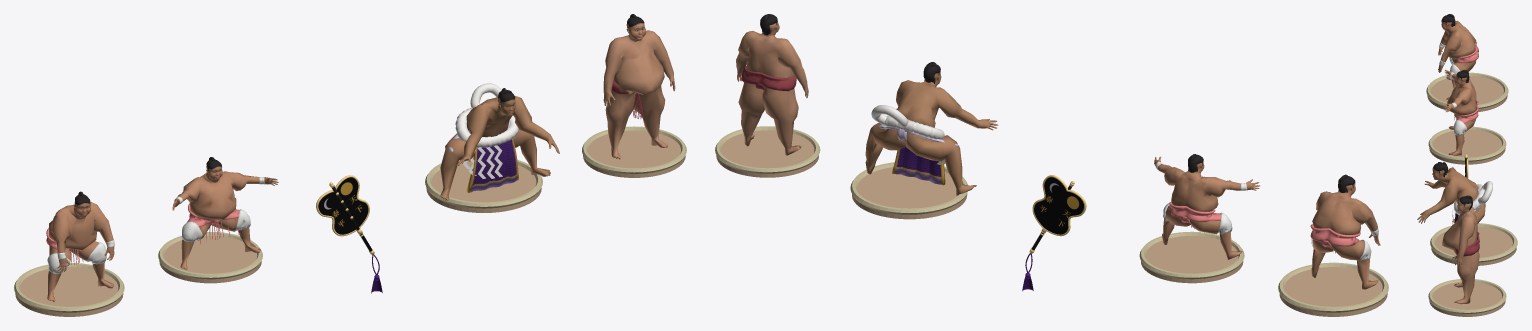
The model's file is sumo_rikishi.glb.
The picture shows the model from 3 angles, left to right: view 1: azimuth 30°, elevation 25°; view 2: azimuth 150°, elevation 25°; view 3: azimuth 270°, elevation 25°; orthographic projection. The views are drawn at different scales.
Visible parts, largest first — view 1: rikishi_yokozuna, rikishi_atamifuji, rikishi_shiko, rikishi_dohyoiri, rikishi_gunbai; view 2: rikishi_yokozuna, rikishi_atamifuji, rikishi_shiko, rikishi_dohyoiri, rikishi_gunbai; view 3: rikishi_atamifuji, rikishi_yokozuna, rikishi_dohyoiri, rikishi_shiko, rikishi_gunbai.
Boxes of the visible parts, x1,y1,x2,y2 form: rikishi_yokozuna: (425,83,559,212); rikishi_atamifuji: (582,14,686,177); rikishi_shiko: (14,191,124,316); rikishi_dohyoiri: (158,157,278,283); rikishi_gunbai: (316,175,382,293); rikishi_yokozuna: (850,62,998,219); rikishi_atamifuji: (715,14,820,177); rikishi_shiko: (1278,174,1388,316); rikishi_dohyoiri: (1139,154,1260,283); rikishi_gunbai: (1022,175,1086,291); rikishi_atamifuji: (1428,195,1506,316); rikishi_yokozuna: (1417,162,1517,265); rikishi_dohyoiri: (1428,69,1506,164); rikishi_shiko: (1426,14,1508,112); rikishi_gunbai: (1464,154,1468,178).
Bounding box in the file's own units: 9.32 × 2.9 × 1.66.
Materials: 22 (6 with a texture image).
